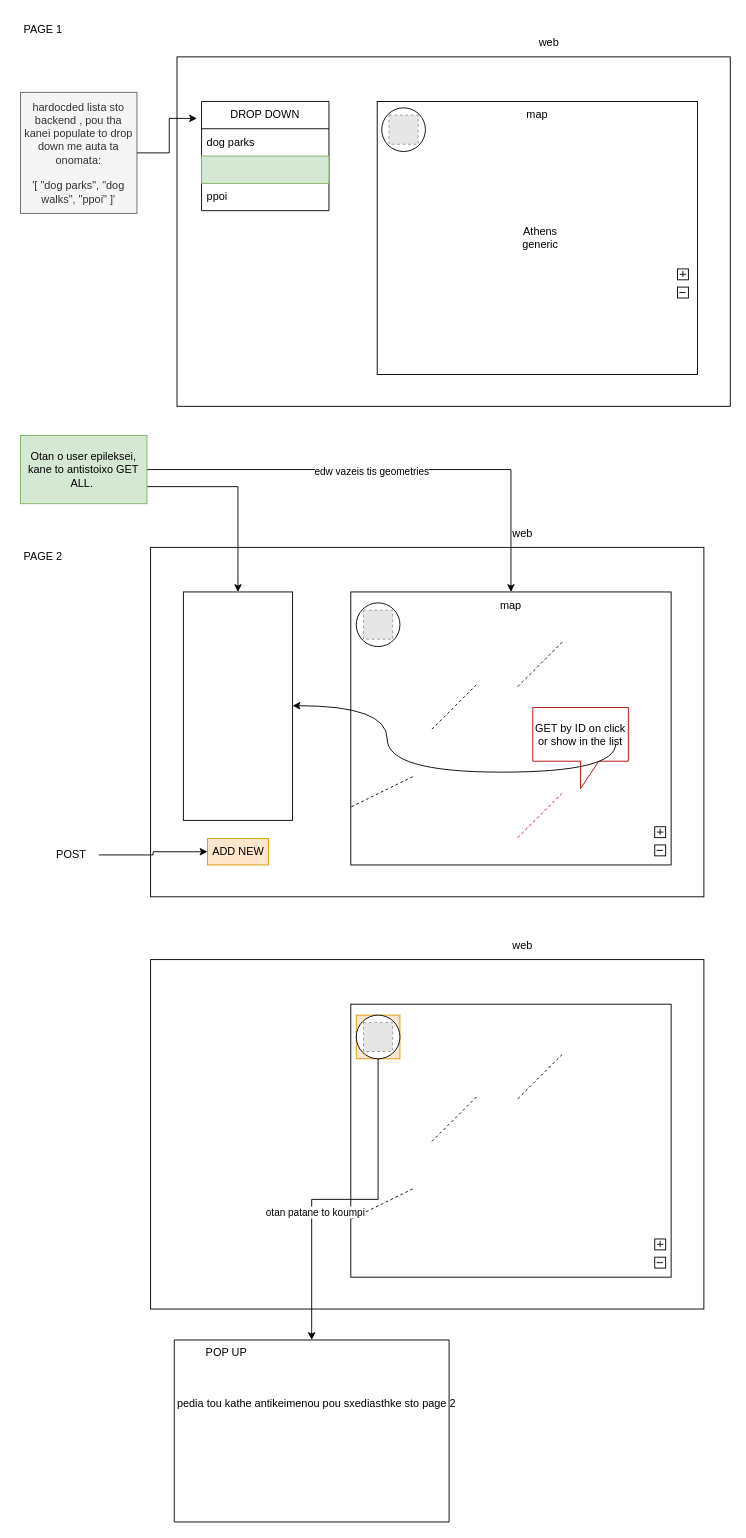
Some shapes in this 746 by 1538 pixel diagram are drawn without their labels. Grey dashed boxes stand in for pictures. The shapes that lost their labels are listed below. From the top down, each one's box as (x1, y1, x2, y2) in pixels, then its label:
(201, 155, 329, 183): dog walks
(182, 591, 293, 820): dog walks 1. ------------ 2. ------------ 3.------------- . . . . . . . . .
